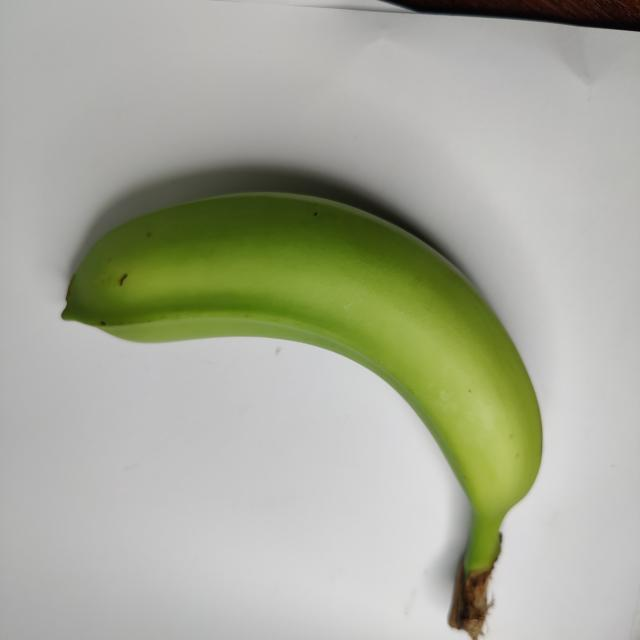raw: (55, 157, 552, 637)
